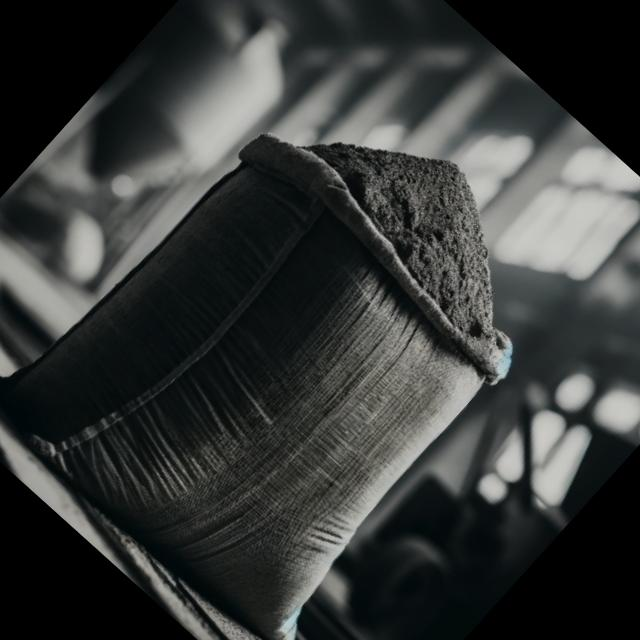KantongSemen: (0, 26, 614, 640)
